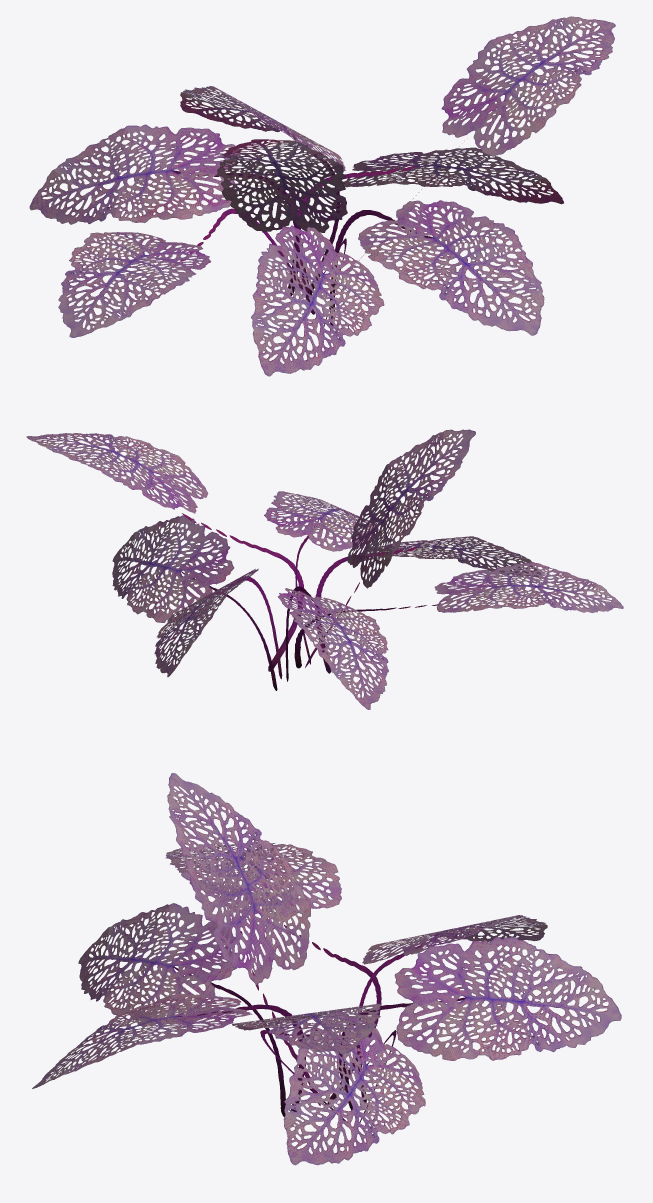
Rendered from Spin Reef C2.fbx.
3 views of the same model, one above another, from view 1: azimuth 30°, elevation 25°; view 2: azimuth 150°, elevation 25°; view 3: azimuth 270°, elevation 25° (orthographic). The views are drawn at different scales.
Visible parts, largest first — view 1: Spin Reef C2; view 2: Spin Reef C2; view 3: Spin Reef C2.
Part boxes in pixels (box(x1,y1,x2,y2)): Spin Reef C2: box(29, 16, 615, 376); Spin Reef C2: box(26, 429, 623, 709); Spin Reef C2: box(32, 773, 621, 1165).
Size of the model in its own units: 242 by 102 by 190.
